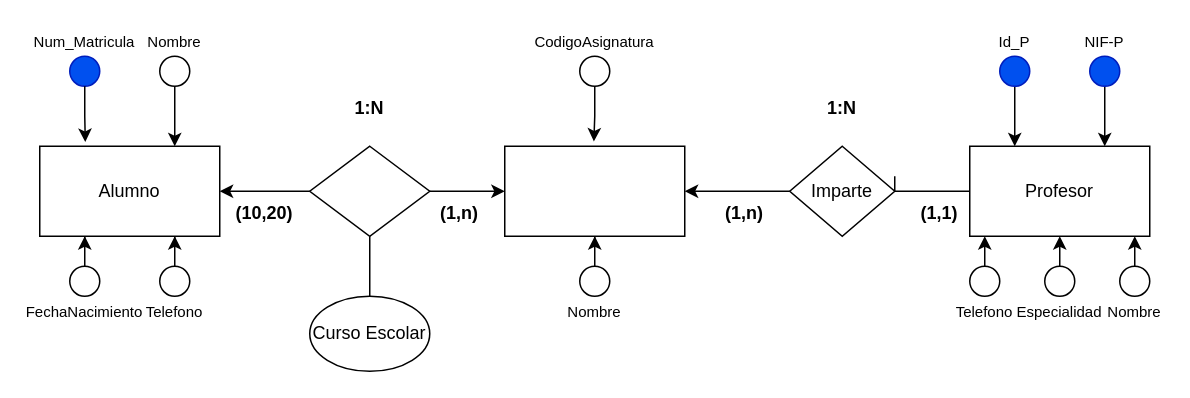
The diagram is 1190 pixels wide and 398 high, and some of its shapes have lost their labels. Each missing label, with the box of its shape:
Asignatura: (503, 145, 685, 236)
Matricula: (308, 145, 430, 236)
